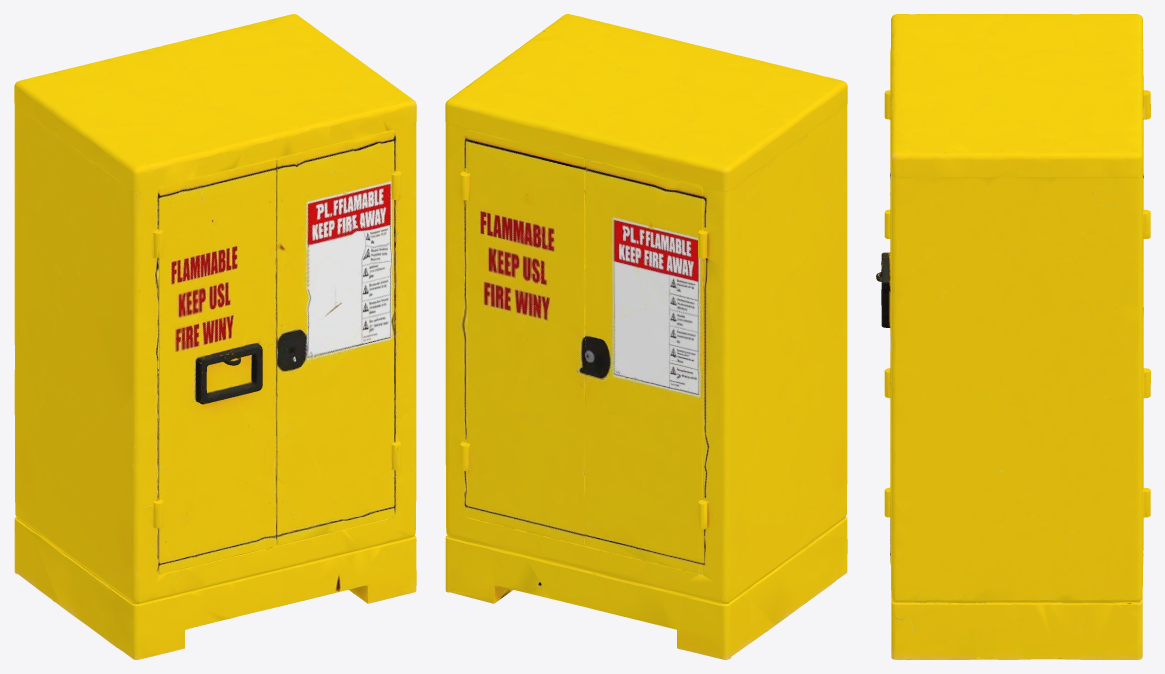
The model's file is hcrg-justrite-04.glb.
3 renders of one model, left to right at view 1: azimuth 30°, elevation 25°; view 2: azimuth 150°, elevation 25°; view 3: azimuth 270°, elevation 25°, orthographic. The views are drawn at different scales.
Bounding box in the file's own units: 1.15 × 1.9 × 0.9355.
Materials: 1 (1 with a texture image).
